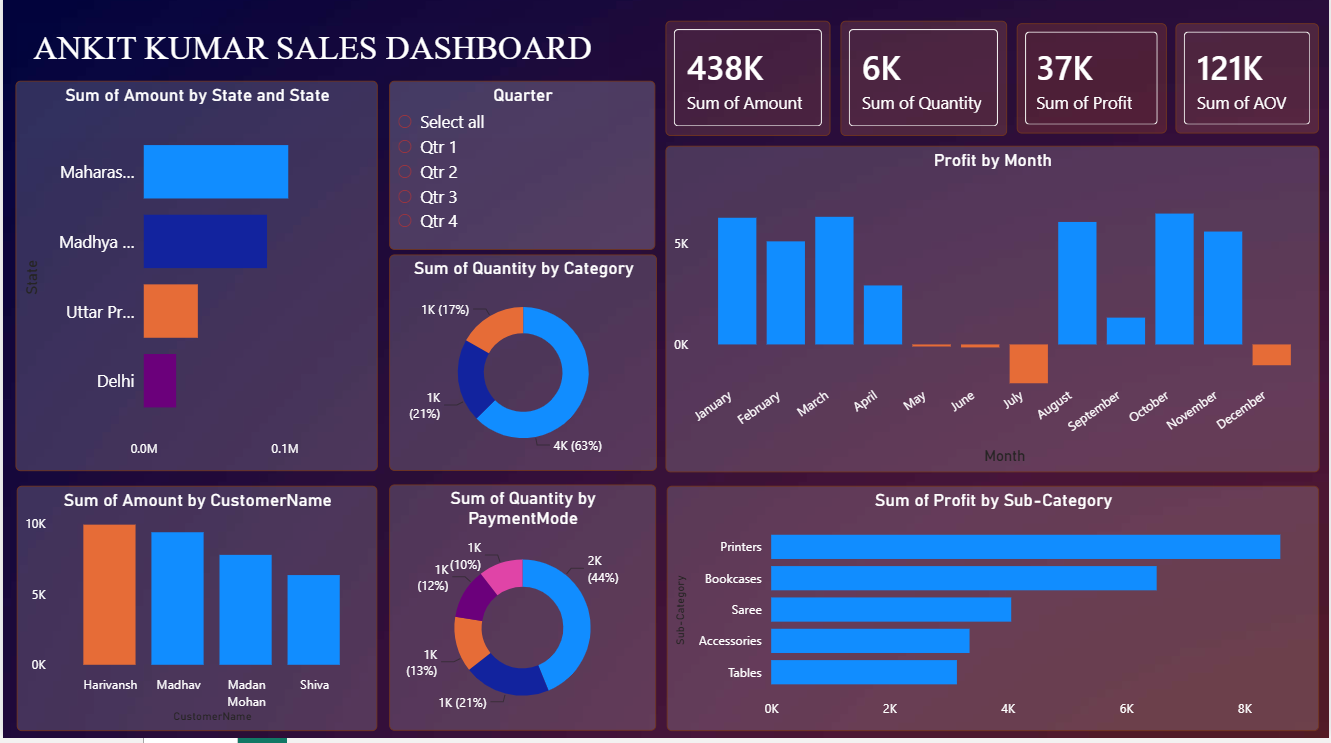

The dashboard page shown, as its layout file describes it:
{"tool":"powerbi","page":{"name":"Page 1","canvas":[1280,720],"ordinal":0},"visuals":[{"type":"textbox","box":[13.3,30.3,571.5,110.4],"z":0},{"type":"columnChart","title":"Profit by Month","fields":{"Y":["Sum(Details.Profit)"],"Category":["Orders.Order Date.Variation.Date Hierarchy.Month"]},"box":[639.4,148,630.9,315.5],"z":1000},{"type":"barChart","fields":{"Category":["Details.Sub-Category"],"Y":["Sum(Details.Profit)"]},"box":[640.6,476.8,629.7,236.6],"z":2000},{"type":"donutChart","fields":{"Category":["Details.Category"],"Y":["Sum(Details.Quantity)"]},"box":[372.5,253.6,258.4,208.7],"z":3000},{"type":"donutChart","fields":{"Y":["Sum(Details.Quantity)"],"Category":["Details.PaymentMode"]},"box":[372.5,475.6,257.2,237.8],"z":4000},{"type":"cardVisual","fields":{"Data":["Sum(Details.Amount)"]},"box":[606.6,30.3,180.8,110.4],"z":5000},{"type":"cardVisual","fields":{"Data":["Sum(Details.Quantity)"]},"box":[776.5,30.3,179.6,110.4],"z":6000},{"type":"cardVisual","fields":{"Data":["Sum(Details.Profit)"]},"box":[954.8,30.3,163.8,105.6],"z":7000},{"type":"cardVisual","fields":{"Data":["Sum(Details.Column)"]},"box":[1110.1,27.9,160.2,105.6],"z":8000},{"type":"barChart","fields":{"Category":["Orders.State"],"Series":["Orders.State"],"Y":["Sum(Details.Amount)"]},"box":[12.1,148,349.4,314.2],"z":9000},{"type":"columnChart","fields":{"Category":["Orders.CustomerName"],"Y":["Sum(Details.Amount)"]},"box":[13.3,476.8,348.2,236.6],"z":10000},{"type":"listSlicer","fields":{"Values":["Orders.Order Date.Variation.Date Hierarchy.Quarter"]},"box":[372.5,148,257.2,100.7],"z":11000}]}

Visuals, with their boxes in screenshot pixels (x1, y1, x2, y2), scaled from the page's 1280x720 canvas onto the 1331x743 screenshot:
textbox: crop(14, 31, 608, 145)
"Profit by Month" columnChart: crop(665, 153, 1321, 478)
barChart - Details.Sub-Category x Sum(Details.Profit): crop(666, 492, 1321, 736)
donutChart - Details.Category x Sum(Details.Quantity): crop(387, 262, 656, 477)
donutChart - Sum(Details.Quantity) x Details.PaymentMode: crop(387, 491, 655, 736)
cardVisual - Sum(Details.Amount): crop(631, 31, 819, 145)
cardVisual - Sum(Details.Quantity): crop(807, 31, 994, 145)
cardVisual - Sum(Details.Profit): crop(993, 31, 1163, 140)
cardVisual - Sum(Details.Column): crop(1154, 29, 1321, 138)
barChart - Orders.State x Orders.State: crop(13, 153, 376, 477)
columnChart - Orders.CustomerName x Sum(Details.Amount): crop(14, 492, 376, 736)
listSlicer - Orders.Order Date.Variation.Date Hierarchy.Quarter: crop(387, 153, 655, 257)
